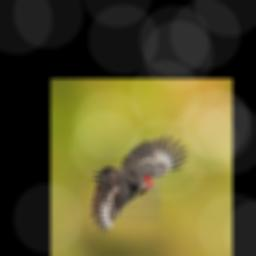Woodpecker: (90, 135, 188, 236)
